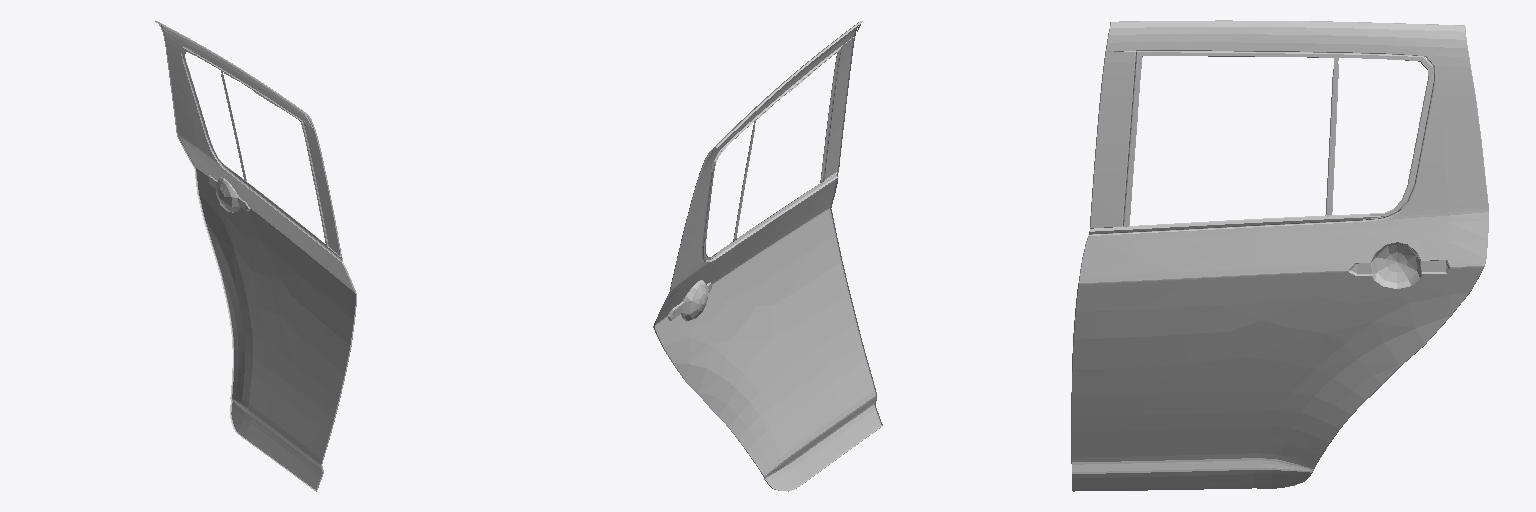
The robot description file, URDF, robot "carDoor":
<?xml version="1.0"?>
<robot name="carDoor">
  <link name="carDoor_base_link">

    <visual>
      <origin rpy="0 0 0" xyz="0.0 0.0 0.0"/>
      <geometry>
          <mesh filename="door_rr_big.obj" scale="1 1 1"/>
      </geometry>
      <material name="gray">
        <color rgba="0.8 0.8 0.8 1"/>
      </material>
    </visual>
    <collision>
      <origin rpy="0 0 0" xyz="0.0 0.0 0.0"/>
      <geometry>
          <mesh filename="door_rr_big.obj" scale="1 1 1"/>
      </geometry>
    </collision>
  </link>
</robot>

--- Render facts (derived) ---
The picture shows the robot from 3 angles, left to right: view 1: azimuth 30°, elevation 25°; view 2: azimuth 150°, elevation 25°; view 3: azimuth 270°, elevation 25°; orthographic projection.
Model carDoor with 1 links and 0 joints (none), rooted at carDoor_base_link, posed every joint at zero.
Links seen in each view (by area): view 1: carDoor_base_link; view 2: carDoor_base_link; view 3: carDoor_base_link.
Boxes of the visible links, x1,y1,x2,y2 form: carDoor_base_link: (155,21,356,491); carDoor_base_link: (653,21,882,491); carDoor_base_link: (1071,20,1488,491).
Bounding box of the posed robot: 0.1535 × 0.8302 × 1.03 m (x, y, z).
Meshes: 1 distinct files referenced, 1 mesh visuals loaded (1 OBJ).